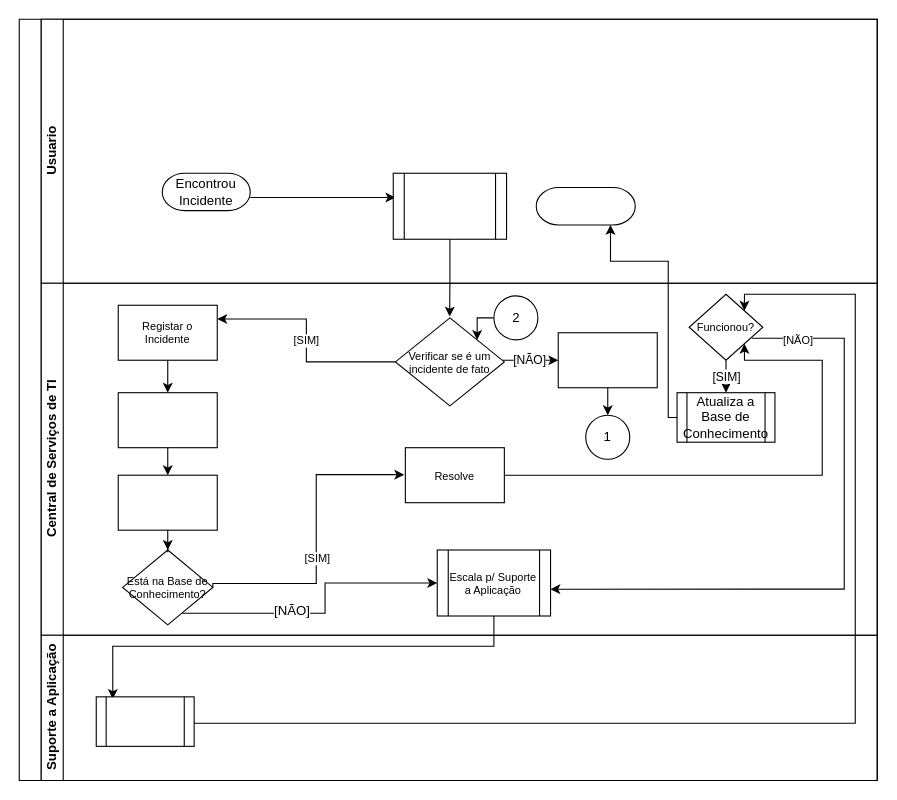
This 897x800 diagram has some shape labels left out. Each missing label, with the centre of its shape:
Categoriza o Incidente: point 167,420
Contatar Central de Serviço de TI: point 449,205
Encaminhar para área requisitada: point 607,360
Investiga e Resolve: point 144,721
Prioriza o Incidente: point 167,502
Resolvido: point 585,205
